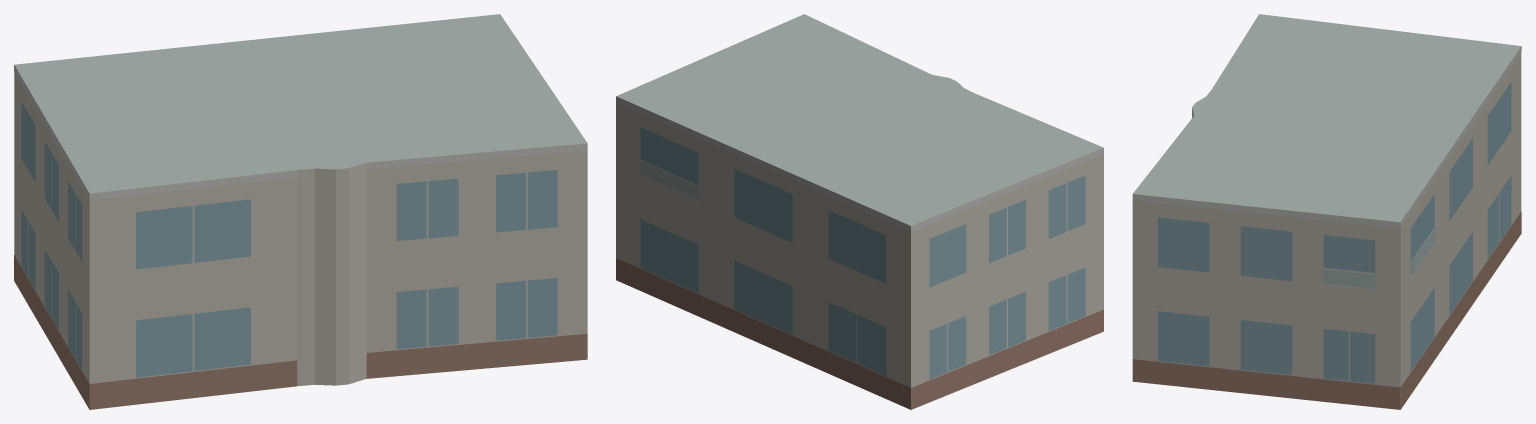
File: survey-upis-32870668.glb
The picture shows the model from 3 angles, left to right: view 1: azimuth 30°, elevation 25°; view 2: azimuth 150°, elevation 25°; view 3: azimuth 270°, elevation 25°; orthographic projection. The views are drawn at different scales.
Visible parts, largest first — view 1: survey-upis-32870668.tmp; view 2: survey-upis-32870668.tmp; view 3: survey-upis-32870668.tmp.
Part boxes in pixels (left/top/right/bottom): survey-upis-32870668.tmp: left=14, top=14, right=587, bottom=409; survey-upis-32870668.tmp: left=616, top=14, right=1103, bottom=409; survey-upis-32870668.tmp: left=1132, top=14, right=1521, bottom=409.
Bounding box in the file's own units: 17.63 × 7.4 × 13.91.
